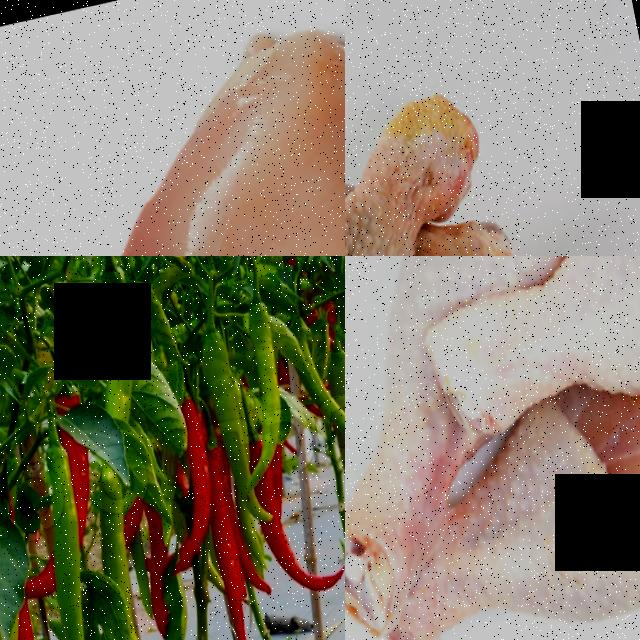chicken breast: (20, 0, 345, 256)
chicken thigh: (382, 375, 640, 640), (402, 256, 640, 446), (345, 76, 546, 256)
chilli: (23, 434, 111, 640), (79, 256, 153, 425), (192, 319, 256, 492), (240, 292, 300, 476), (261, 508, 345, 608), (166, 396, 223, 543), (85, 462, 141, 607), (209, 529, 257, 640), (320, 342, 345, 512)
